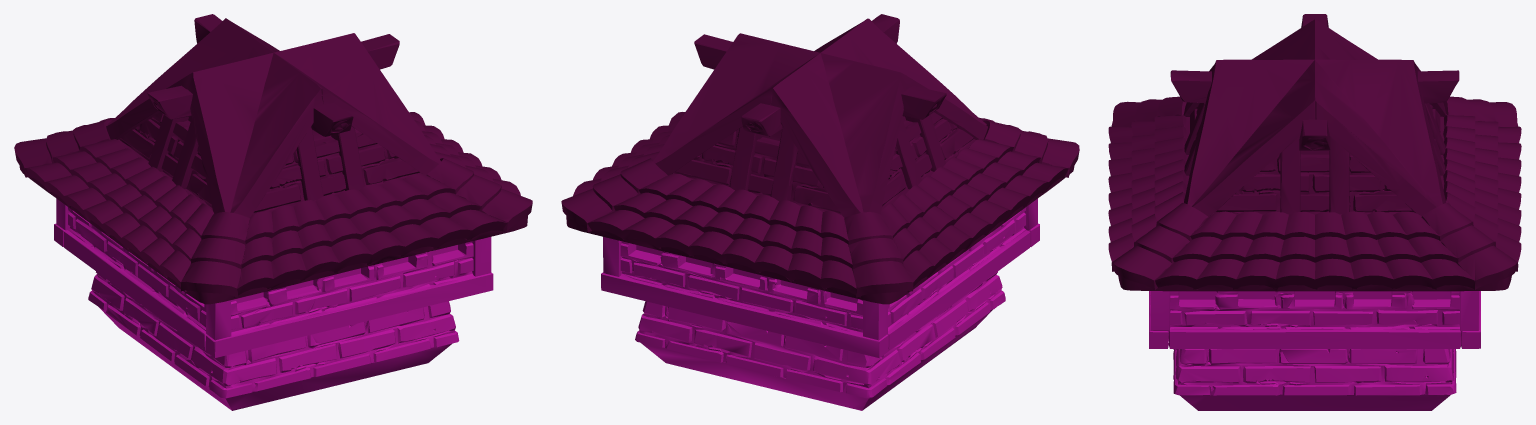
Rendered from Garrison_Middle.obj.
3 renders of one model, left to right at view 1: azimuth 30°, elevation 25°; view 2: azimuth 150°, elevation 25°; view 3: azimuth 270°, elevation 25°, orthographic. The views are drawn at different scales.
Visible parts, largest first — view 1: GarrisonMiddle_Decimate_1, GarrisonMiddle_Decimate_0; view 2: GarrisonMiddle_Decimate_1, GarrisonMiddle_Decimate_0; view 3: GarrisonMiddle_Decimate_1, GarrisonMiddle_Decimate_0.
Boxes of the visible parts, x1,y1,x2,y2 form: GarrisonMiddle_Decimate_1: (14, 14, 532, 304); GarrisonMiddle_Decimate_0: (54, 198, 493, 410); GarrisonMiddle_Decimate_1: (561, 14, 1079, 304); GarrisonMiddle_Decimate_0: (601, 198, 1039, 410); GarrisonMiddle_Decimate_1: (1108, 14, 1521, 291); GarrisonMiddle_Decimate_0: (1149, 291, 1480, 410).
Size of the model in its own units: 1.43 by 1.15 by 1.43.
